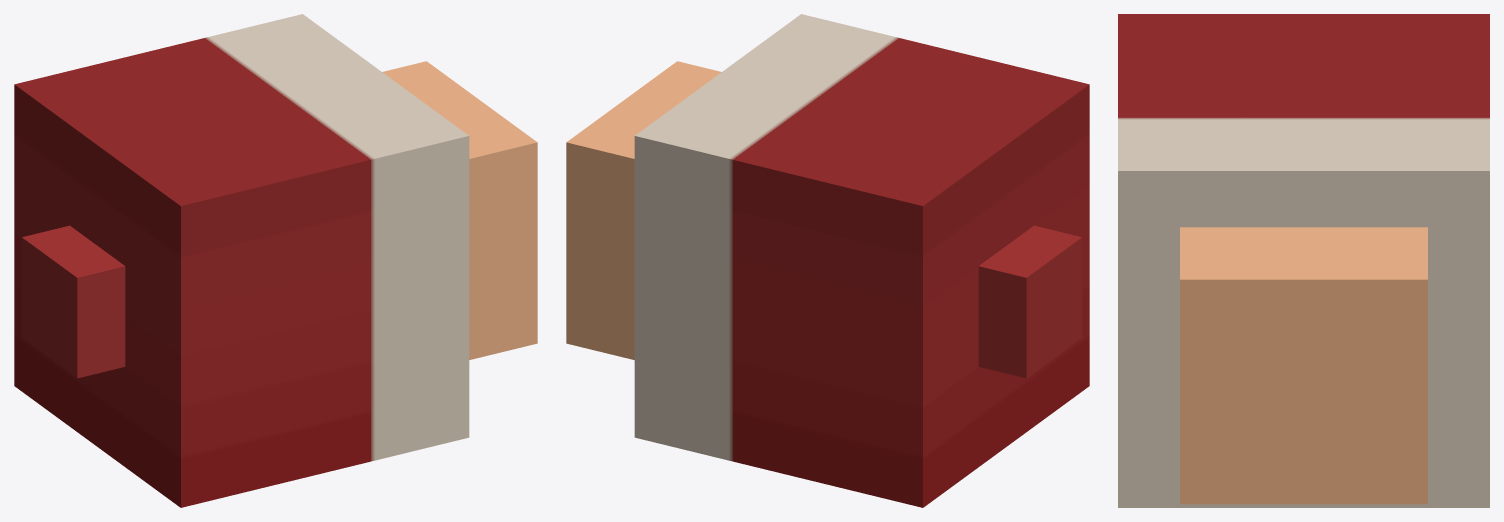
The model's file is Elbow061.fbx.
The picture shows the model from 3 angles, left to right: view 1: azimuth 30°, elevation 25°; view 2: azimuth 150°, elevation 25°; view 3: azimuth 270°, elevation 25°; orthographic projection. The views are drawn at different scales.
Visible parts, largest first — view 1: Elbow061; view 2: Elbow061; view 3: Elbow061.
Part boxes in pixels (x1,y1,x2,y2): Elbow061: (14, 14, 537, 507); Elbow061: (566, 14, 1089, 507); Elbow061: (1118, 14, 1489, 507).
Size of the model in its own units: 9 by 6 by 6.
